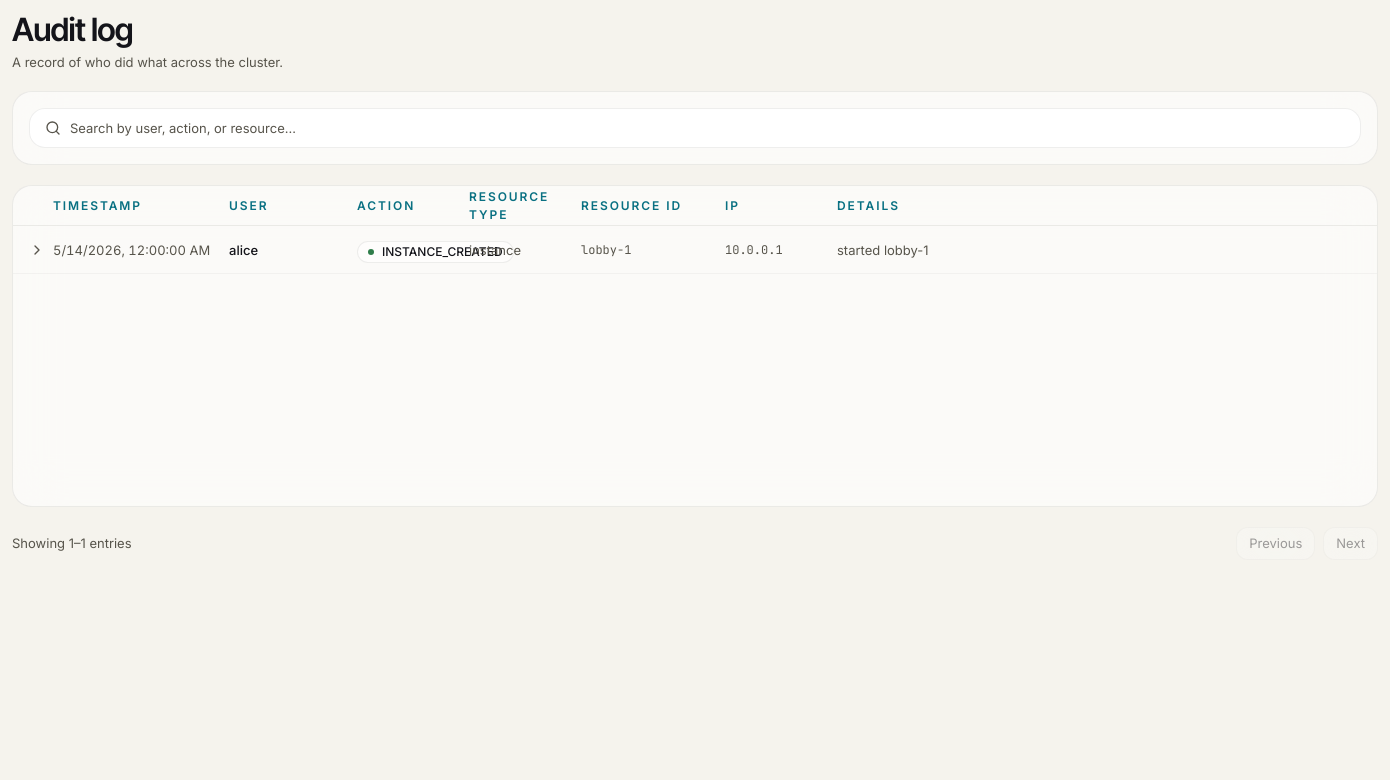
Test case: AuditIndex › expands a row with a before/after diff on click
Expected: the text "+1 addition" is not shown
Click the element with class "cursor-pointer": (695, 250) [13,226,1377,274]
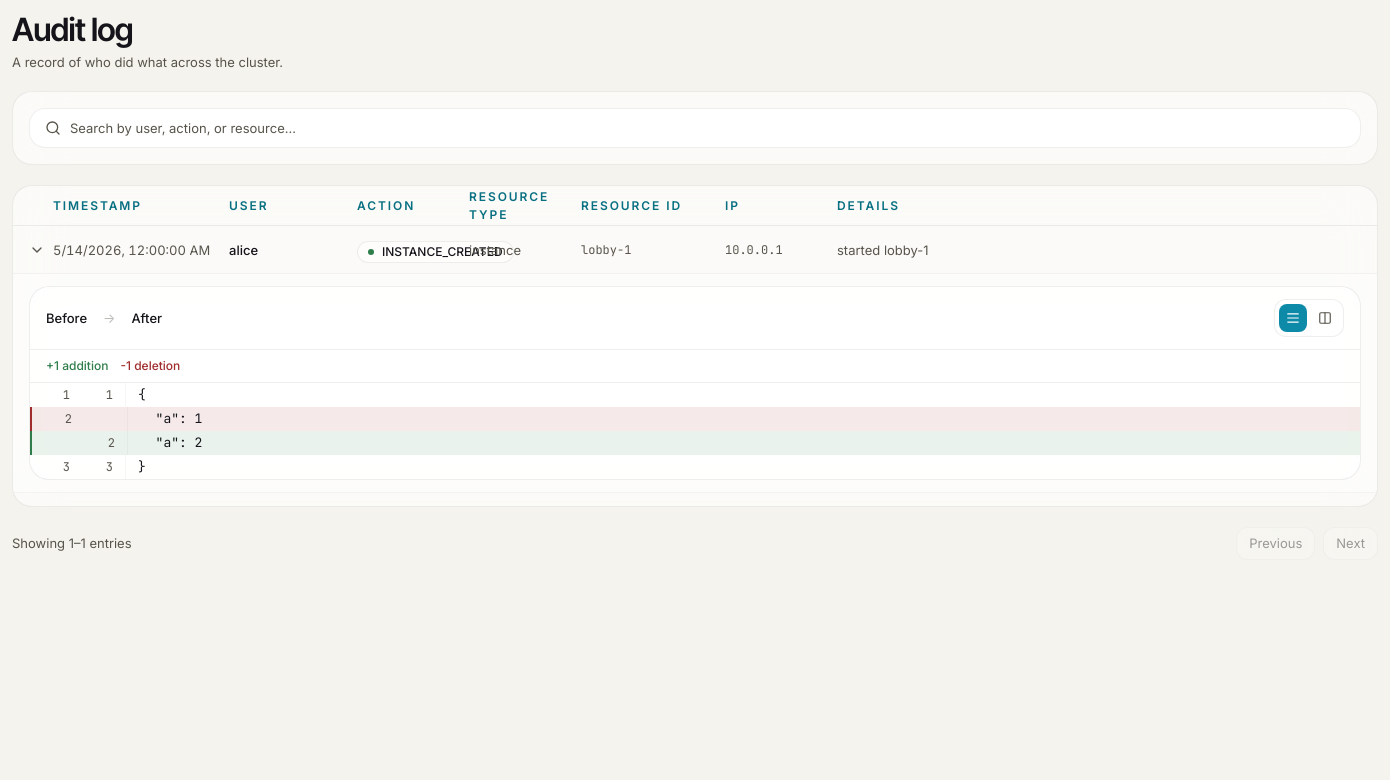
Expected: the text "Before" is shown, [46,309,87,328]
Expected: the text "After" is shown, [131,309,162,328]
